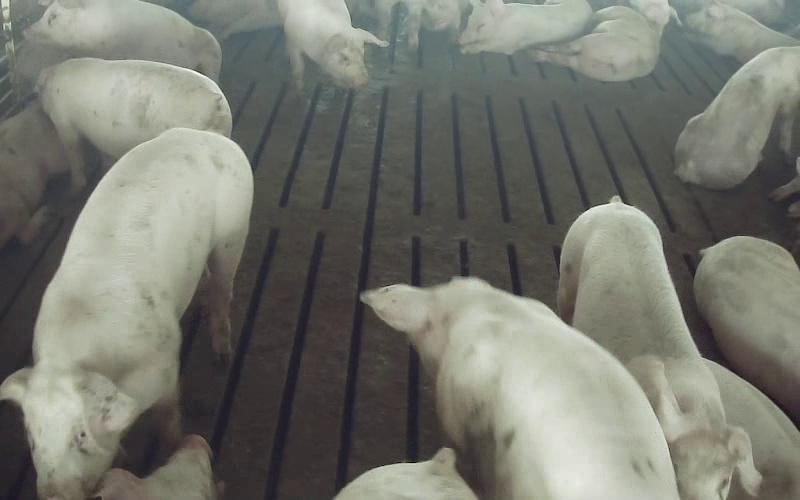pig: (362, 277, 677, 499), (558, 197, 760, 499), (38, 58, 230, 190), (694, 236, 799, 423), (675, 46, 799, 189), (24, 0, 220, 80), (278, 0, 386, 89), (531, 6, 659, 81), (459, 0, 591, 54), (686, 0, 799, 63)
